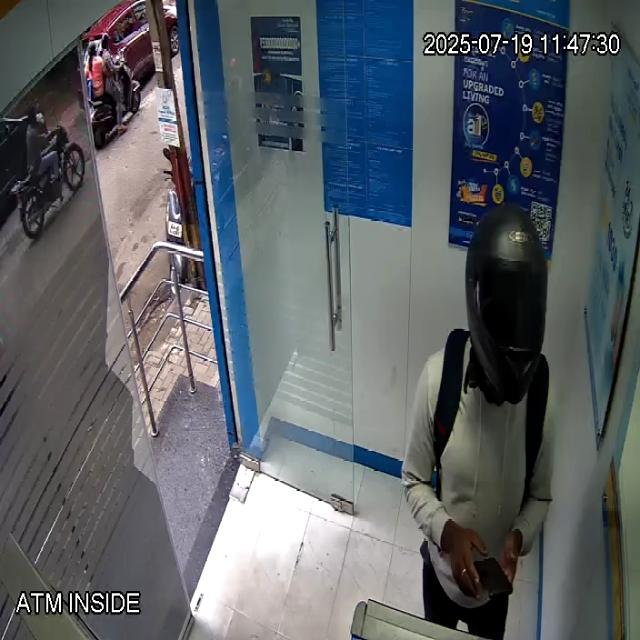helmet: (464, 204, 548, 407)
